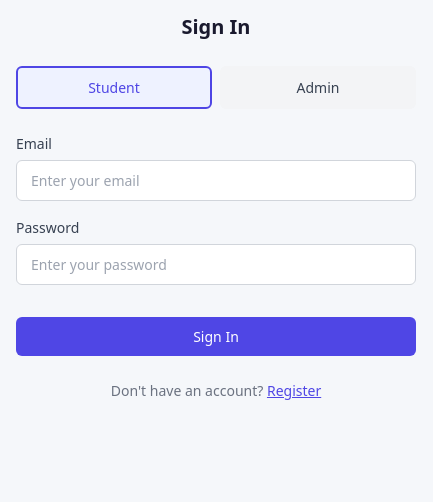
Login › switches to register mode and shows name field
The width and height of the screenshot is (433, 502).
Click the button "Register".
click(294, 390)  # box [267,381,321,400]
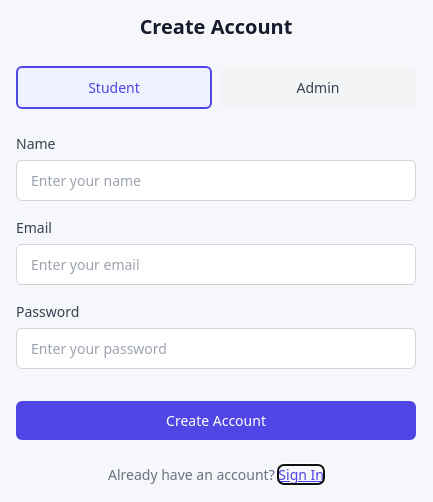
Expected: the heading "Create Account" is shown, [140,13,292,40]
Expected: the field labelled "Name" is shown, [16,160,416,201]
Expected: the button "Create Account" is shown, [16,401,416,440]
